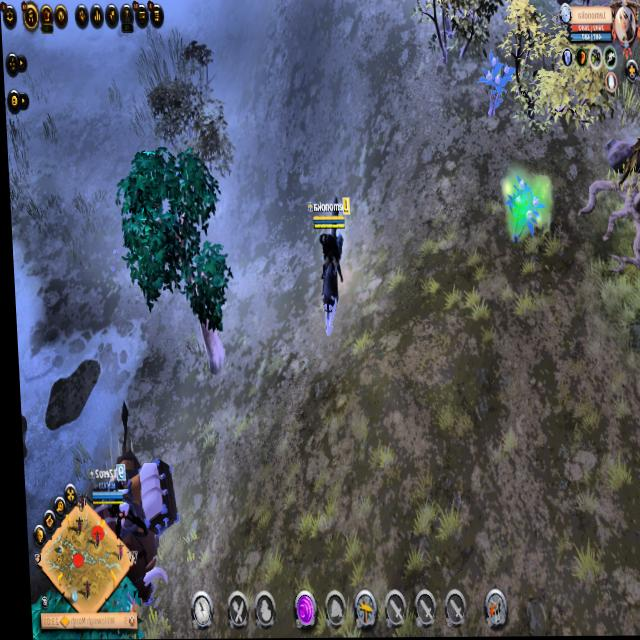fiber tier 4: (498, 174, 546, 249), (476, 55, 514, 117)
wood tier 3: (109, 149, 230, 336)
